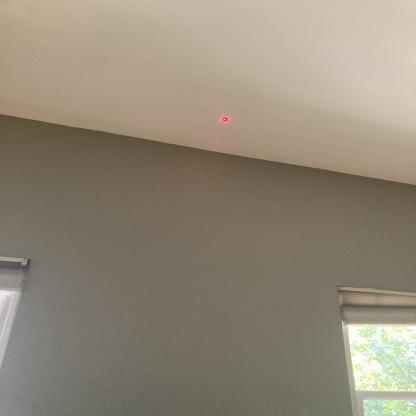target: (219, 114, 234, 126)
